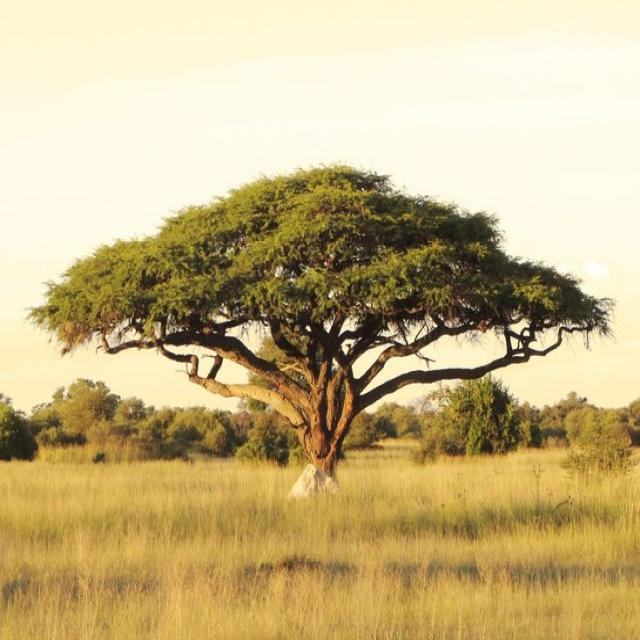Acacia: (80, 164, 590, 470)
